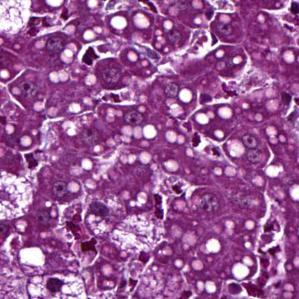ballooning: (23, 269, 90, 299), (4, 168, 36, 222)
